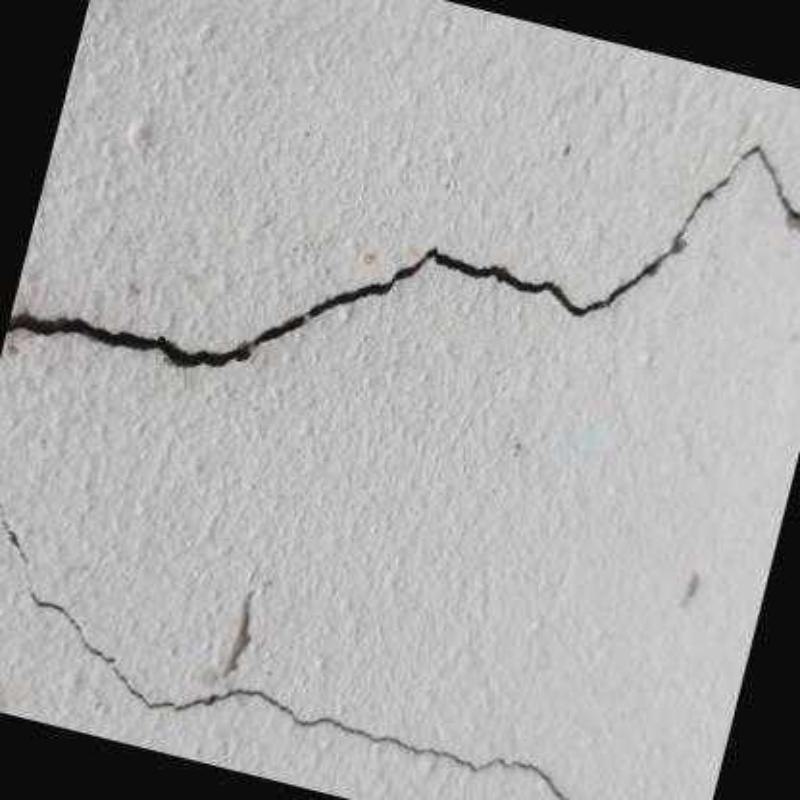crack: (6, 145, 798, 373), (25, 582, 573, 798), (0, 503, 29, 567)
